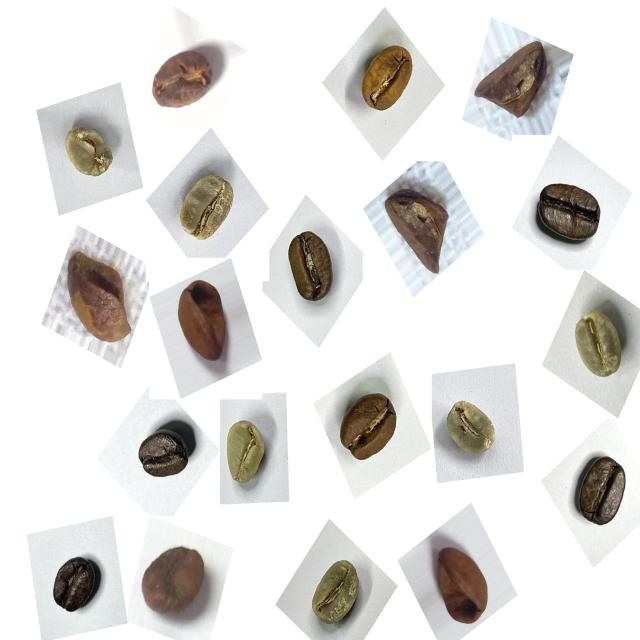bad: (58, 240, 138, 353), (378, 174, 460, 284), (474, 30, 561, 129), (137, 534, 220, 630), (427, 532, 501, 635), (169, 272, 240, 373), (144, 34, 222, 122)
dark: (531, 168, 614, 258), (564, 444, 638, 538), (132, 416, 202, 494), (44, 542, 110, 624)
green: (562, 298, 636, 394), (169, 162, 245, 254), (303, 552, 371, 640), (435, 388, 506, 468), (55, 115, 125, 193), (216, 411, 277, 496)
light: (350, 32, 423, 124)
medium: (328, 382, 406, 473), (277, 223, 347, 315)
